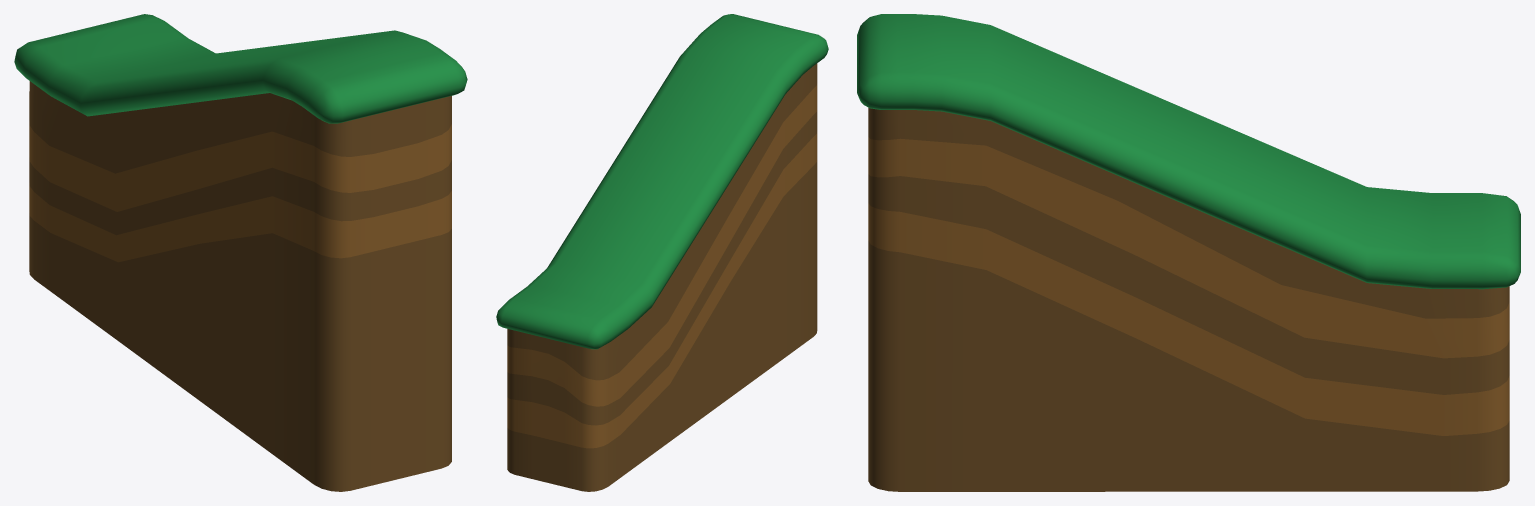
Rendered from Plateforme_Pencher.fbx.
The picture shows the model from 3 angles, left to right: view 1: azimuth 30°, elevation 25°; view 2: azimuth 150°, elevation 25°; view 3: azimuth 270°, elevation 25°; orthographic projection. The views are drawn at different scales.
Parts seen in each view (by area): view 1: Cube.008; view 2: Cube.008; view 3: Cube.008.
Part boxes in pixels (box(x1,y1,x2,y2)): Cube.008: box(14, 14, 467, 491); Cube.008: box(496, 14, 828, 491); Cube.008: box(857, 14, 1520, 491).
Size of the model in its own units: 499 by 1296 by 1878.
